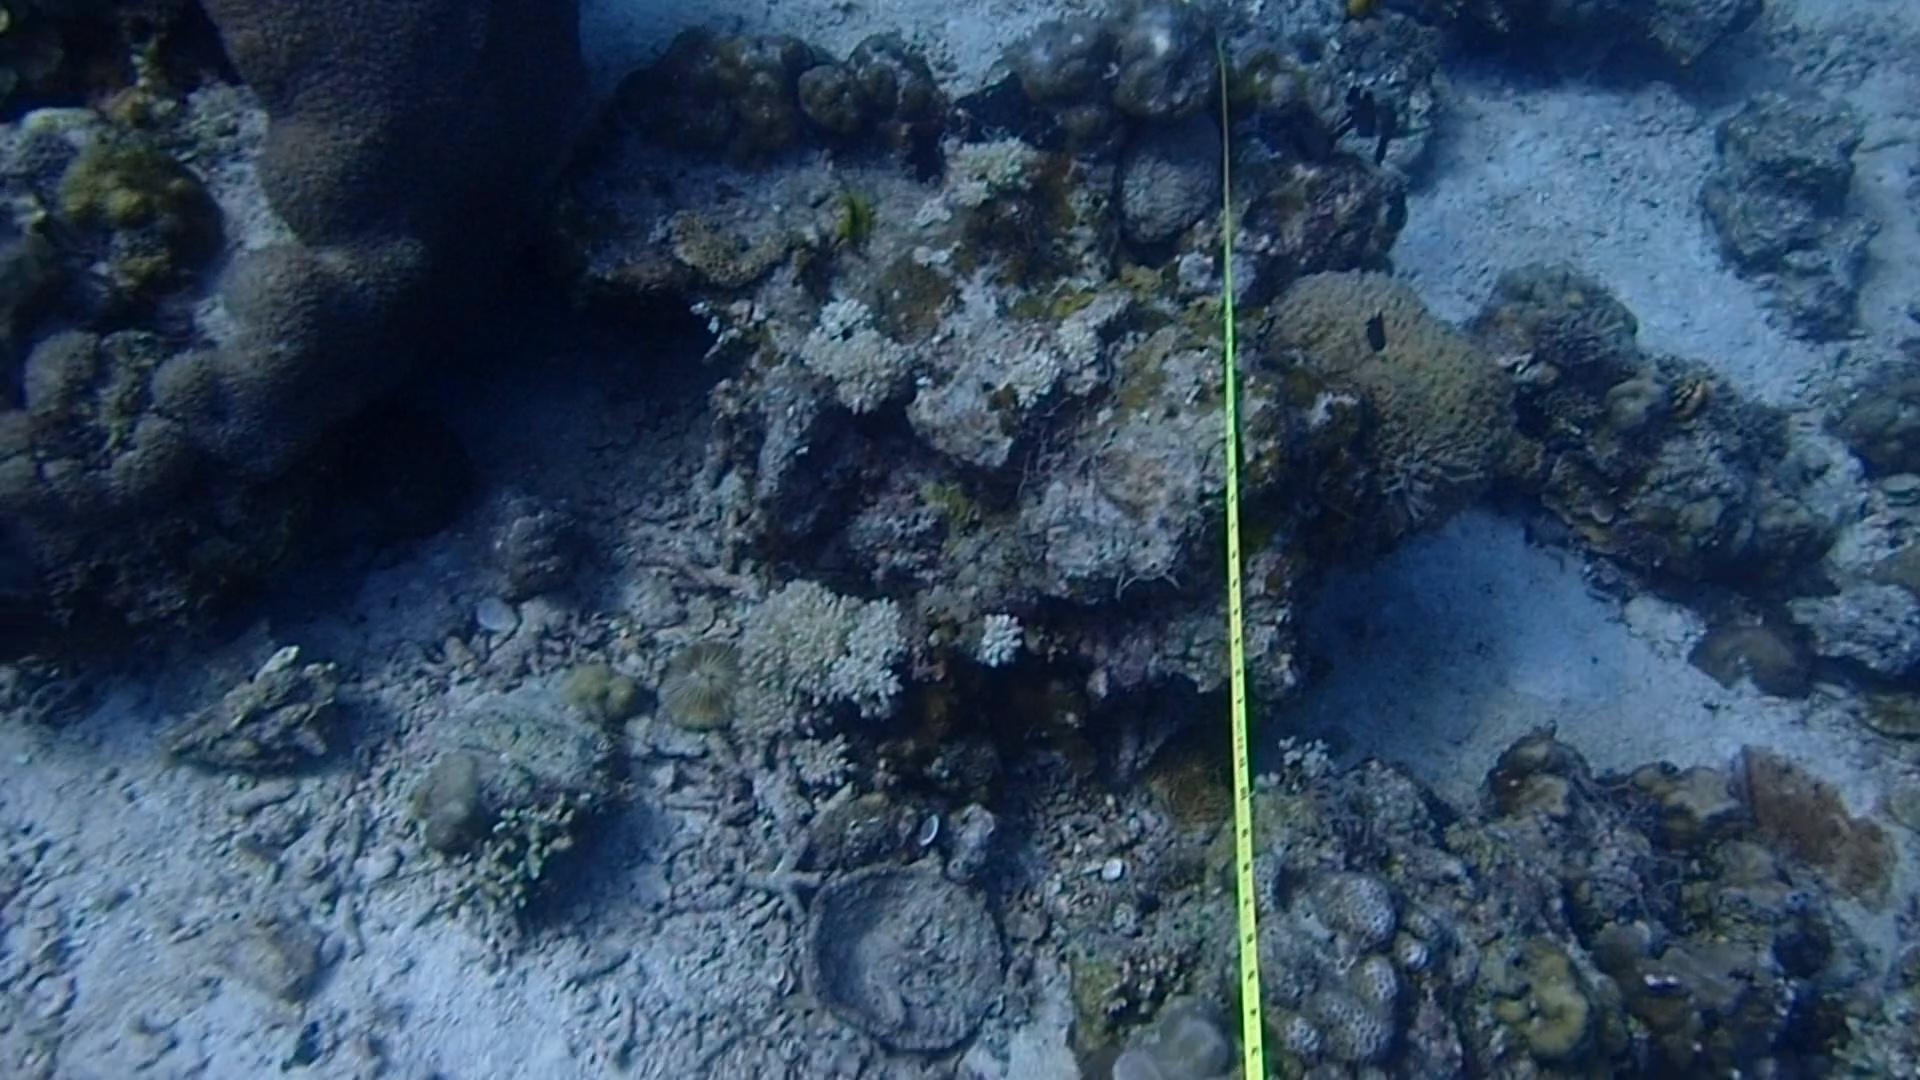Dark Fish: (1509, 381, 1567, 451), (1331, 82, 1393, 144), (1356, 293, 1404, 369), (1374, 174, 1415, 258), (1366, 103, 1403, 162)
